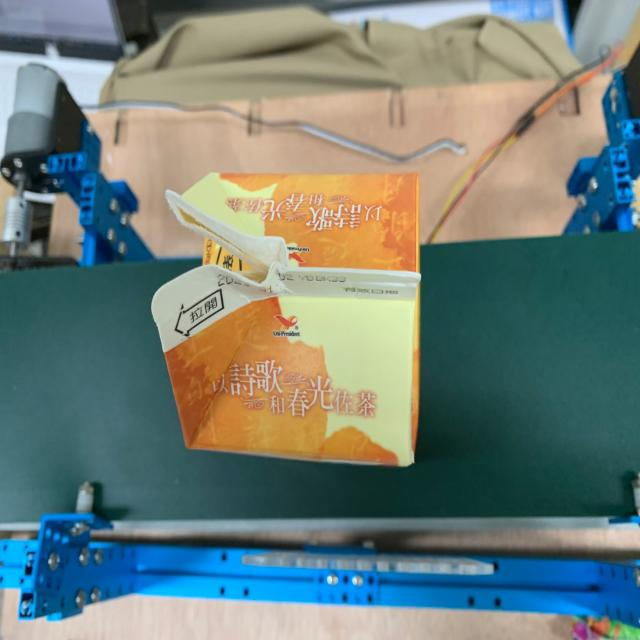non_white_jug: (137, 148, 434, 488)
